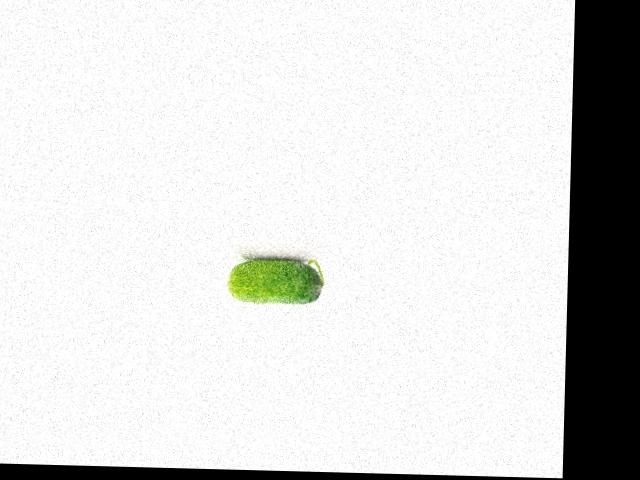cucumber: (225, 256, 323, 304)
